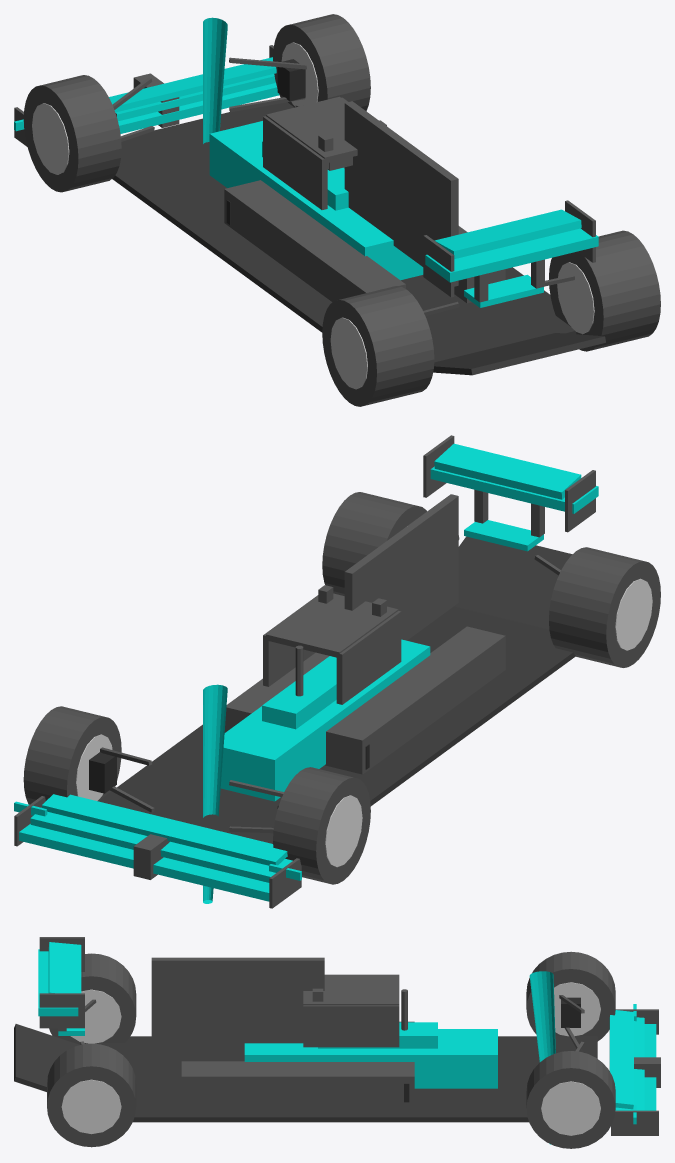
File: mercedes_2026.glb
The picture shows the model from 3 angles, top to bottom: view 1: azimuth 30°, elevation 25°; view 2: azimuth 150°, elevation 25°; view 3: azimuth 270°, elevation 25°; orthographic projection. The views are drawn at different scales.
Parts seen in each view (by area): view 1: floor_plate, engine_cover, sidepod_l, tire_rl, tire_rr, tire_fl, monocoque_lower, tire_fr, rw_main, halo_arch_l, diffuser, rw_flap (+15 smaller); view 2: floor_plate, sidepod_l, engine_cover, tire_rl, monocoque_lower, diffuser, tire_fl, tire_fr, fw_flap2, tire_rr, fw_main, halo_arch_top (+17 smaller); view 3: floor_plate, engine_cover, sidepod_r, monocoque_lower, tire_rr, tire_fr, halo_arch_r, tire_fl, tire_rl, halo_arch_top, rim_rr, rim_fr (+17 smaller).
Part boxes in pixels (<box>): floor_plate: <box>112,102,576,362</box>; engine_cover: <box>344,101,458,286</box>; sidepod_l: <box>224,180,405,302</box>; tire_rl: <box>322,286,434,406</box>; tire_rr: <box>549,230,660,351</box>; tire_fl: <box>23,75,121,192</box>; monocoque_lower: <box>209,121,423,280</box>; tire_fr: <box>273,14,370,111</box>; rw_main: <box>425,228,598,282</box>; halo_arch_l: <box>263,116,327,209</box>; diffuser: <box>433,333,605,375</box>; rw_flap: <box>434,209,581,258</box>; floor_plate: <box>98,606,575,843</box>; sidepod_l: <box>325,626,505,774</box>; engine_cover: <box>344,494,458,640</box>; tire_rl: <box>549,547,660,667</box>; monocoque_lower: <box>220,639,430,801</box>; diffuser: <box>454,536,572,629</box>; tire_fl: <box>273,767,370,884</box>; tire_fr: <box>23,706,121,804</box>; fw_flap2: <box>42,794,287,865</box>; tire_rr: <box>322,492,426,595</box>; fw_main: <box>19,824,269,901</box>; halo_arch_top: <box>266,593,398,657</box>; floor_plate: <box>95,1036,597,1122</box>; engine_cover: <box>151,957,324,1047</box>; sidepod_r: <box>181,1061,414,1104</box>; monocoque_lower: <box>244,1029,497,1088</box>; tire_rr: <box>47,1043,136,1147</box>; tire_fr: <box>526,1051,615,1148</box>; halo_arch_r: <box>303,1005,399,1047</box>; tire_fl: <box>526,951,615,1041</box>; tire_rl: <box>49,953,136,1044</box>; halo_arch_top: <box>303,974,399,1005</box>; rim_rr: <box>61,1079,121,1134</box>; rim_fr: <box>541,1081,600,1135</box>.
Size of the model in its own units: 2.08 by 1.53 by 4.86.
